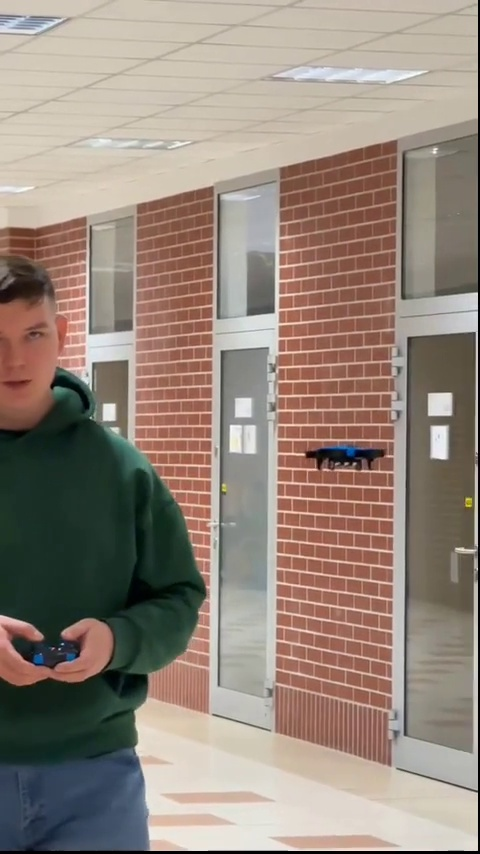drone: (303, 443, 390, 472)
no vest: (0, 249, 206, 850)
